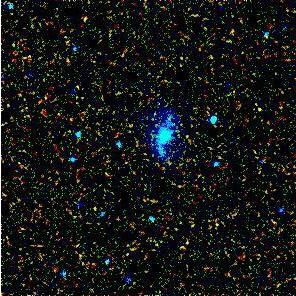star: (73, 3, 103, 33)
